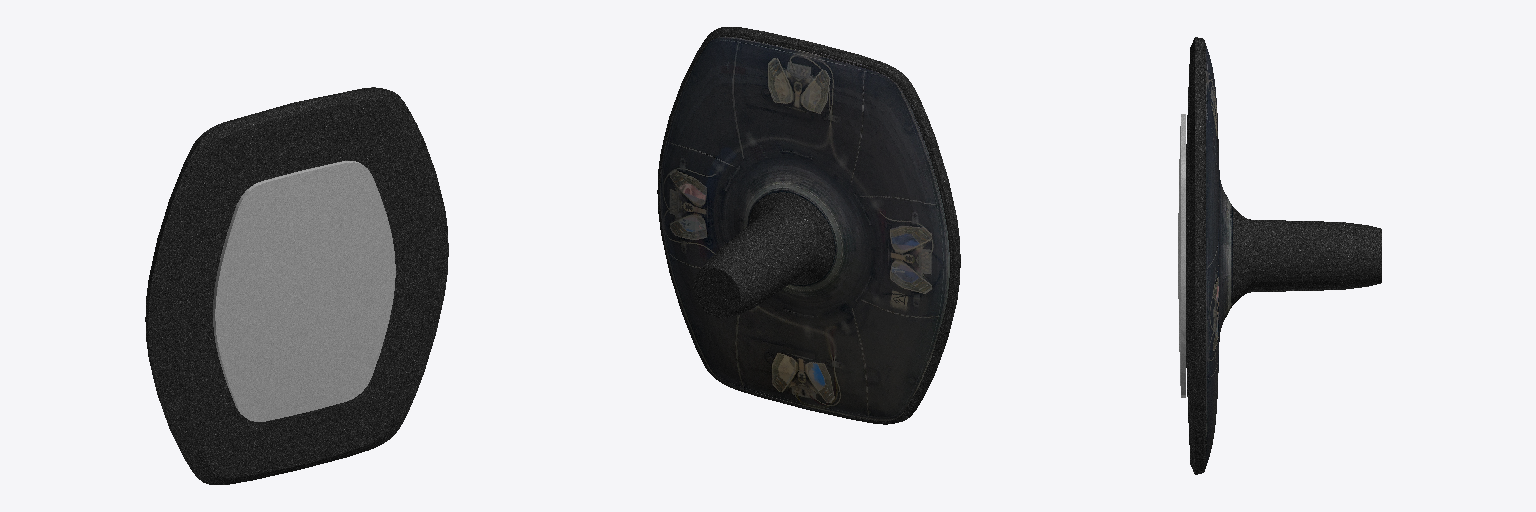
3 views of the same model, side by side, from view 1: azimuth 30°, elevation 25°; view 2: azimuth 150°, elevation 25°; view 3: azimuth 270°, elevation 25° (orthographic).
Parts seen in each view (by area): view 1: Siteco_DL_30_5XA5132T1B08A3; view 2: Siteco_DL_30_5XA5132T1B08A3; view 3: Siteco_DL_30_5XA5132T1B08A3.
Boxes of the visible parts, x1,y1,x2,y2 form: Siteco_DL_30_5XA5132T1B08A3: [145, 87, 448, 484]; Siteco_DL_30_5XA5132T1B08A3: [657, 27, 960, 424]; Siteco_DL_30_5XA5132T1B08A3: [1178, 37, 1381, 474].
Size of the model in its own units: 0.5097 by 0.5935 by 0.2992.
Materials: 3 (3 with a texture image).